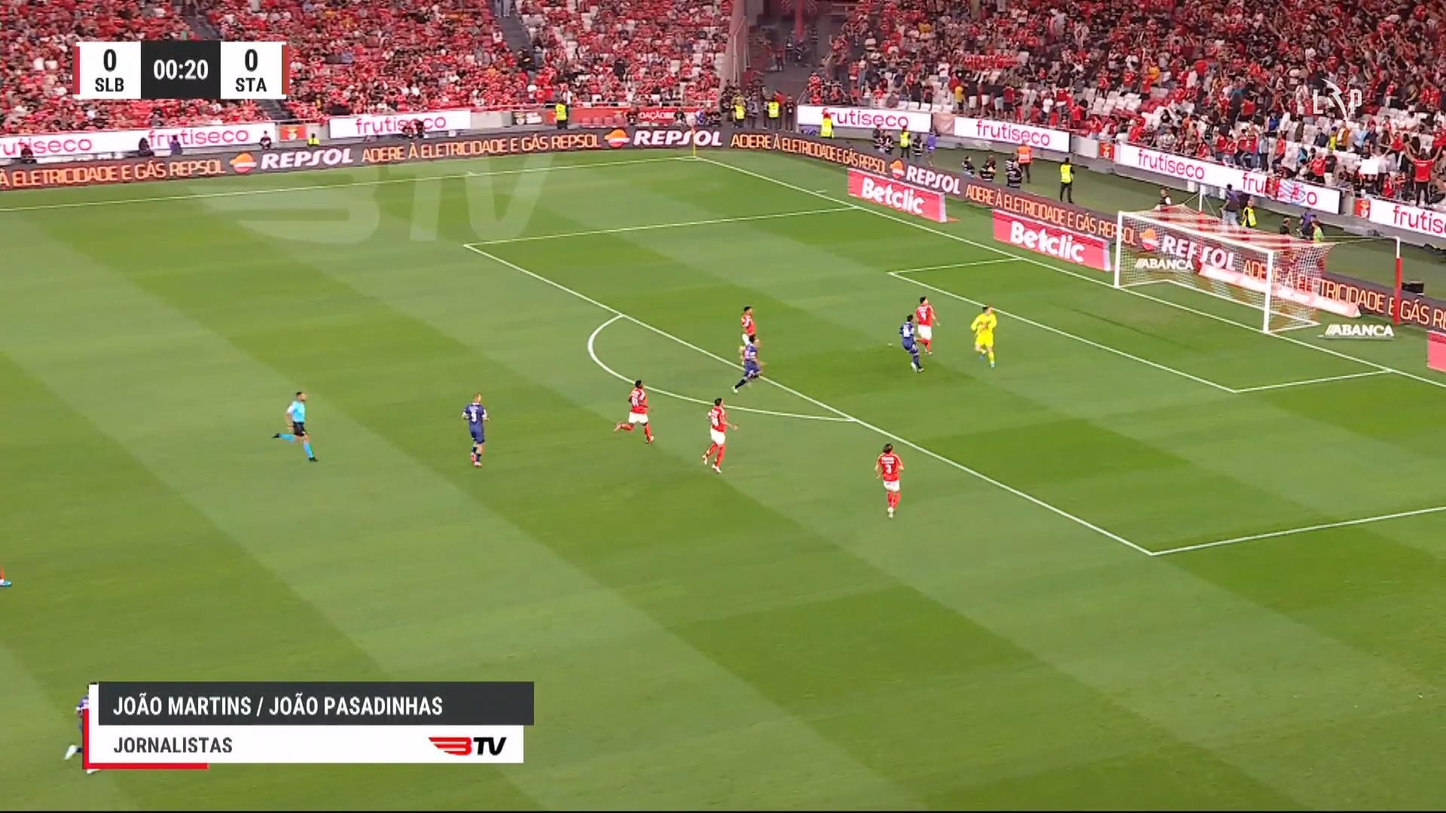goalkeeper: (969, 304, 997, 368)
player: (700, 397, 738, 474), (612, 379, 655, 444), (874, 442, 904, 518), (461, 393, 490, 467), (731, 333, 764, 393), (914, 294, 940, 355), (898, 313, 924, 373), (739, 305, 758, 354)
referee: (271, 390, 318, 461)
